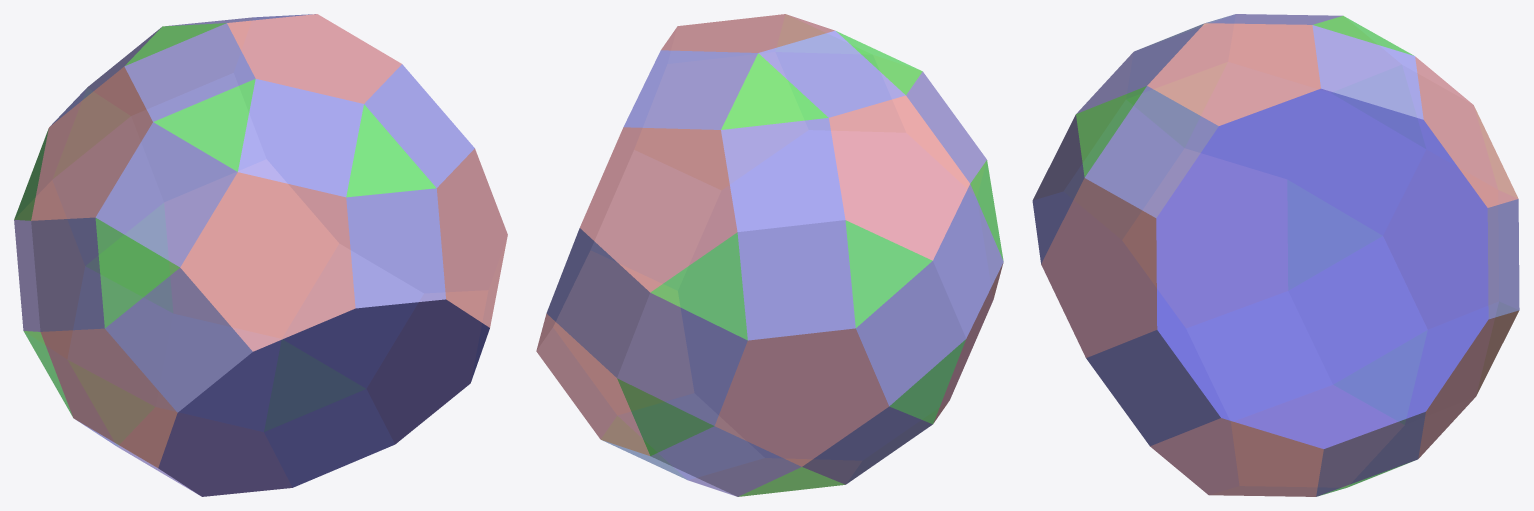
The model's file is j82_gyrate_bidiminished_rhombicosidodecahedron.obj.
The picture shows the model from 3 angles, left to right: view 1: azimuth 30°, elevation 25°; view 2: azimuth 150°, elevation 25°; view 3: azimuth 270°, elevation 25°; orthographic projection.
Bounding box in the file's own units: 1.93 × 1.98 × 1.96.
